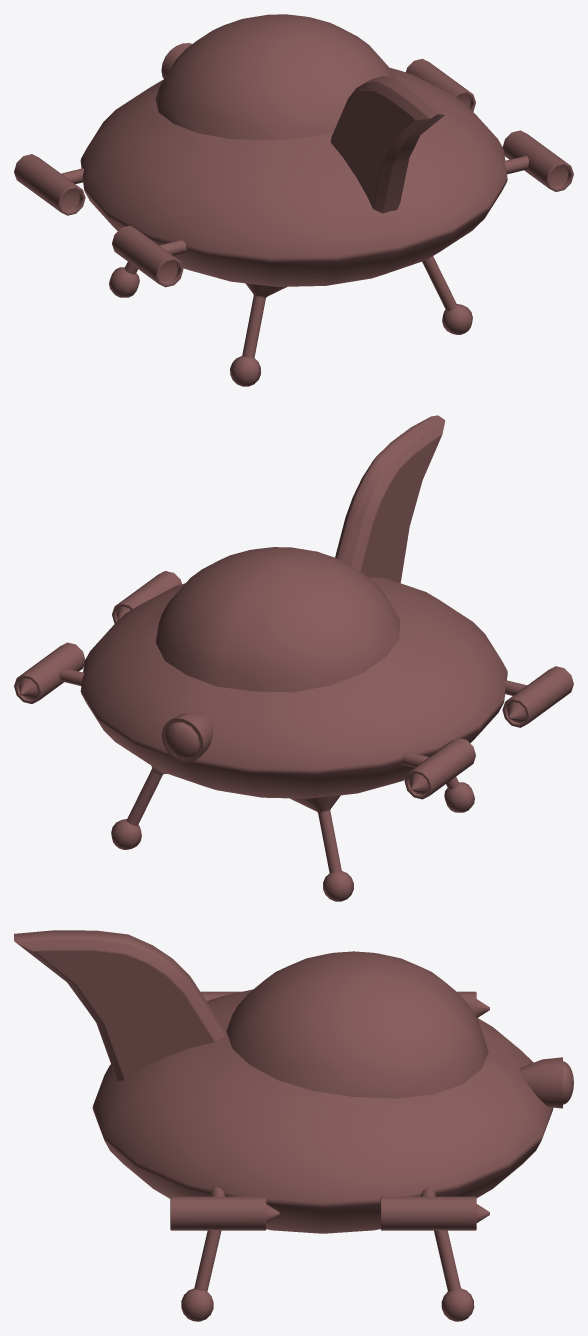
File: Spaceship.fbx
3 views of the same model, one above another, from view 1: azimuth 30°, elevation 25°; view 2: azimuth 150°, elevation 25°; view 3: azimuth 270°, elevation 25° (orthographic). The views are drawn at different scales.
Visible parts, largest first — view 1: Spaceship; view 2: Spaceship; view 3: Spaceship.
Boxes of the visible parts, x1,y1,x2,y2 form: Spaceship: (14, 14, 573, 386); Spaceship: (14, 415, 573, 901); Spaceship: (14, 930, 573, 1321).
Size of the model in its own units: 819 by 581 by 884.
